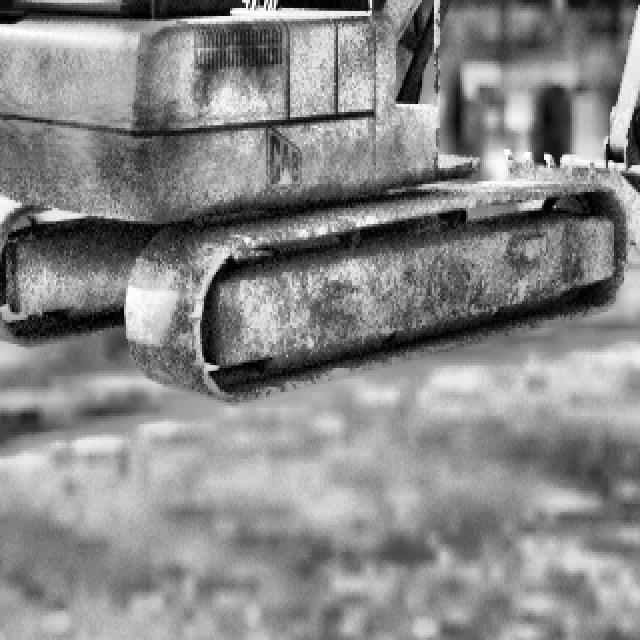excavator: (0, 0, 640, 403)
